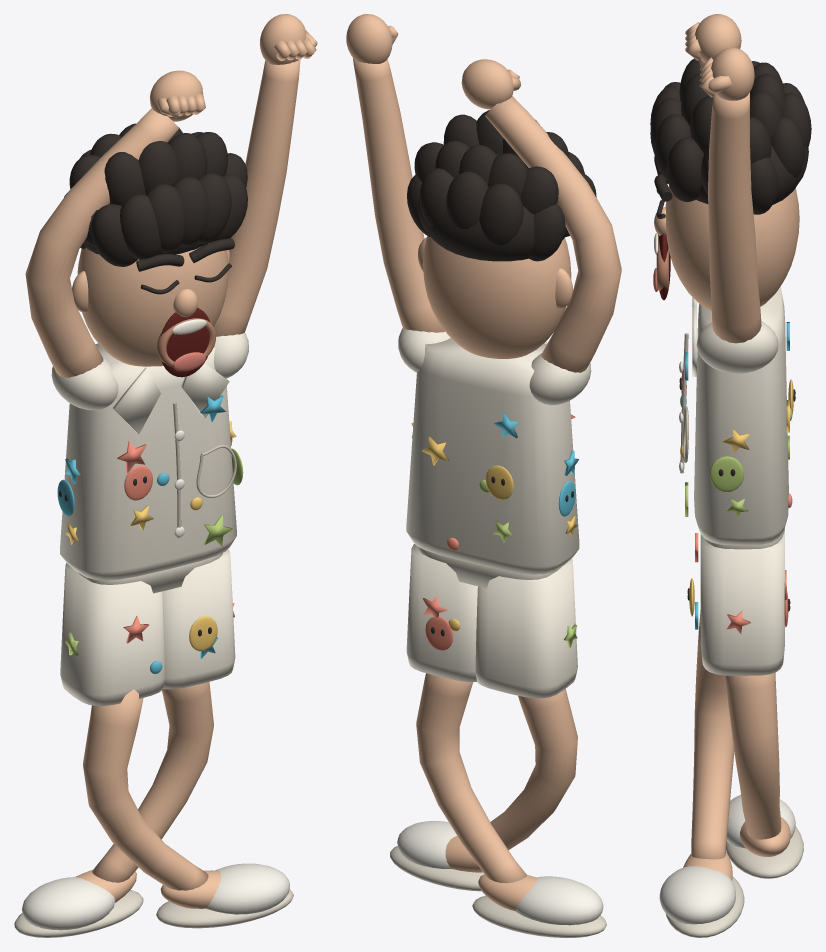
File: sleepy-boy.glb
3 views of the same model, side by side, from view 1: azimuth 30°, elevation 25°; view 2: azimuth 150°, elevation 25°; view 3: azimuth 270°, elevation 25° (orthographic). The views are drawn at different scales.
Parts seen in each view (by area): view 1: Torso_Shirt, Shorts_L, Arm_L, Arm_R, Head, Leg_L, Leg_R, Shorts_R, Slipper_Upper_R, Slipper_Upper_L, Sleeve_L, Hair_Tuft_02 (+23 smaller); view 2: Torso_Shirt, Head, Arm_L, Shorts_L, Arm_R, Leg_R, Leg_L, Shorts_R, Slipper_Upper_R, Hair_Cap, Slipper_R, Hair_Tuft_20 (+23 smaller); view 3: Torso_Shirt, Arm_R, Shorts_R, Head, Leg_R, Leg_L, Slipper_Upper_L, Sleeve_R, Hair_Tuft_06, Slipper_R, Hand_R, Hand_L (+19 smaller).
Part boxes in pixels (x1,y1,x2,y2): Torso_Shirt: [60, 343, 236, 580]; Shorts_L: [60, 563, 164, 705]; Arm_L: [25, 108, 178, 377]; Arm_R: [213, 59, 300, 336]; Head: [77, 243, 228, 366]; Leg_L: [83, 689, 208, 890]; Leg_R: [92, 682, 213, 882]; Shorts_R: [162, 549, 235, 689]; Slipper_Upper_R: [21, 877, 115, 930]; Slipper_Upper_L: [206, 863, 289, 914]; Sleeve_L: [51, 357, 118, 410]; Hair_Tuft_02: [120, 194, 161, 259]; Torso_Shirt: [406, 338, 579, 574]; Head: [423, 236, 571, 358]; Arm_L: [485, 96, 621, 372]; Shorts_L: [475, 558, 577, 698]; Arm_R: [353, 58, 444, 332]; Leg_R: [416, 673, 526, 883]; Leg_L: [490, 689, 577, 849]; Shorts_R: [406, 544, 477, 681]; Slipper_Upper_R: [515, 876, 603, 925]; Hair_Cap: [418, 154, 566, 261]; Slipper_R: [472, 895, 606, 937]; Hair_Tuft_20: [479, 183, 523, 245]; Torso_Shirt: [694, 286, 788, 545]; Arm_R: [708, 92, 761, 343]; Shorts_R: [700, 530, 784, 675]; Head: [665, 186, 799, 310]; Leg_R: [725, 672, 781, 839]; Leg_L: [691, 610, 734, 859]; Slipper_Upper_L: [659, 866, 735, 924]; Sleeve_R: [696, 321, 778, 373]; Hair_Tuft_06: [666, 137, 703, 201]; Slipper_R: [726, 826, 803, 878]; Hand_R: [710, 47, 754, 100]; Hand_L: [694, 14, 741, 62].
Bounding box in the file's own units: 2.53 × 7.54 × 1.22.
